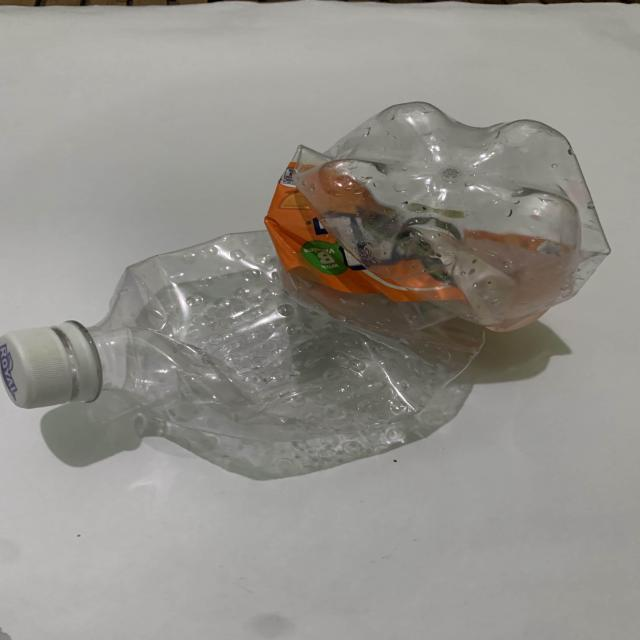bottle: (0, 91, 625, 497)
